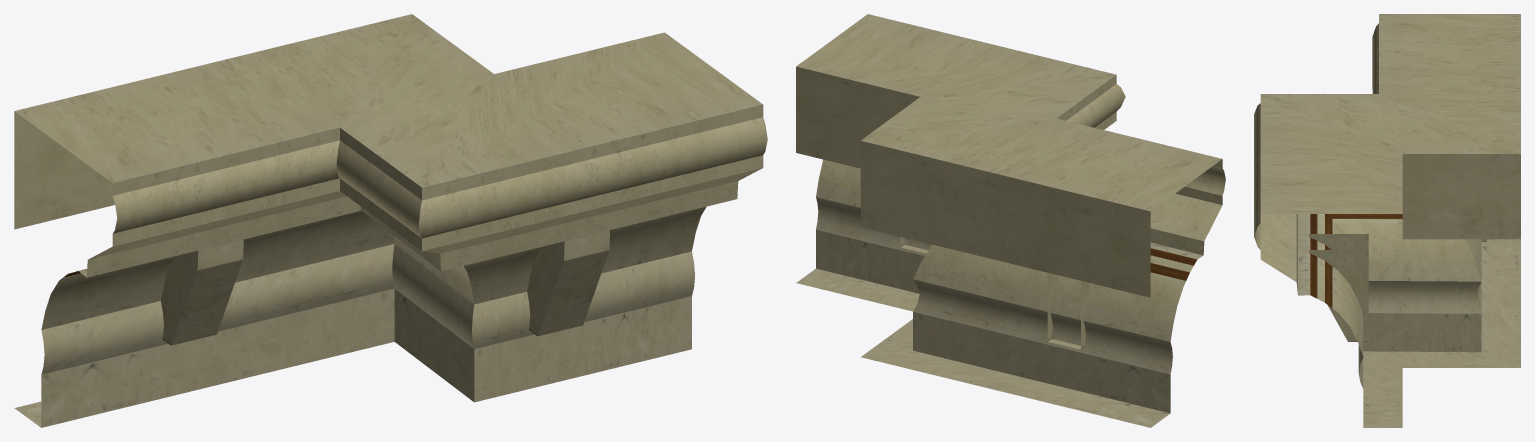
Rendered from Cornice_Trim_90Angle_R.glb.
3 renders of one model, left to right at view 1: azimuth 30°, elevation 25°; view 2: azimuth 150°, elevation 25°; view 3: azimuth 270°, elevation 25°, orthographic. The views are drawn at different scales.
Visible parts, largest first — view 1: Cornice_Trim_90Angle_R; view 2: Cornice_Trim_90Angle_R; view 3: Cornice_Trim_90Angle_R.
Part boxes in pixels (<box>): Cornice_Trim_90Angle_R: <box>14,14,767,427</box>; Cornice_Trim_90Angle_R: <box>796,14,1225,427</box>; Cornice_Trim_90Angle_R: <box>1254,14,1520,427</box>.
Bounding box in the file's own units: 2 × 0.9984 × 1.13.
1 material, 1 textured.
